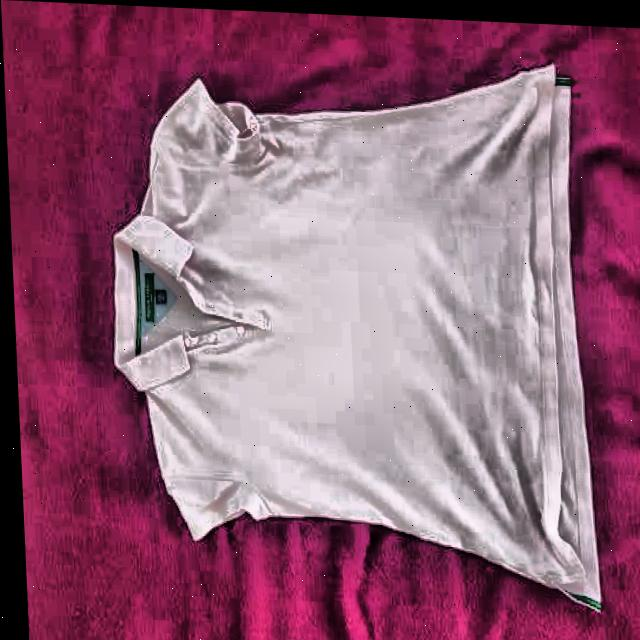clothes: (99, 49, 603, 611)
